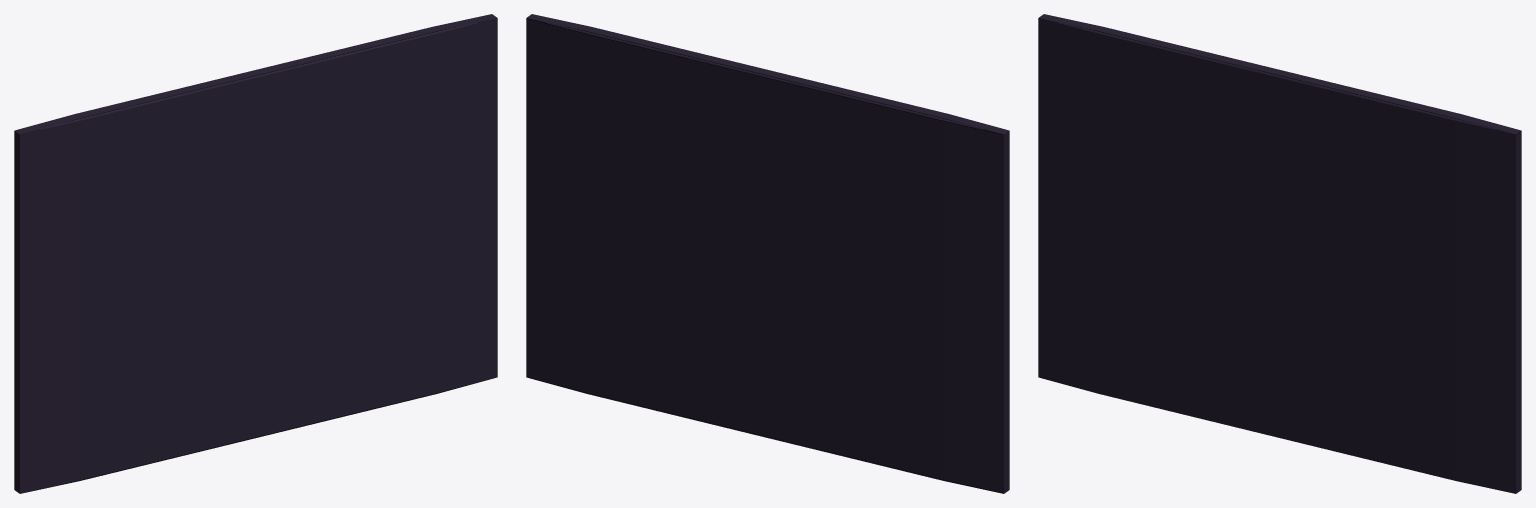
The model's file is PrototypeFloor.gltf.
3 views of the same model, side by side, from view 1: azimuth 30°, elevation 25°; view 2: azimuth 150°, elevation 25°; view 3: azimuth 330°, elevation 25° (orthographic).
Parts seen in each view (by area): view 1: floor; view 2: floor; view 3: floor.
Part boxes in pixels (left/top/right/bottom): floor: left=14, top=14, right=497, bottom=493; floor: left=526, top=14, right=1009, bottom=493; floor: left=1038, top=14, right=1521, bottom=493.
Size of the model in its own units: 37.88 by 27.5 by 1.
1 material, 1 textured.
